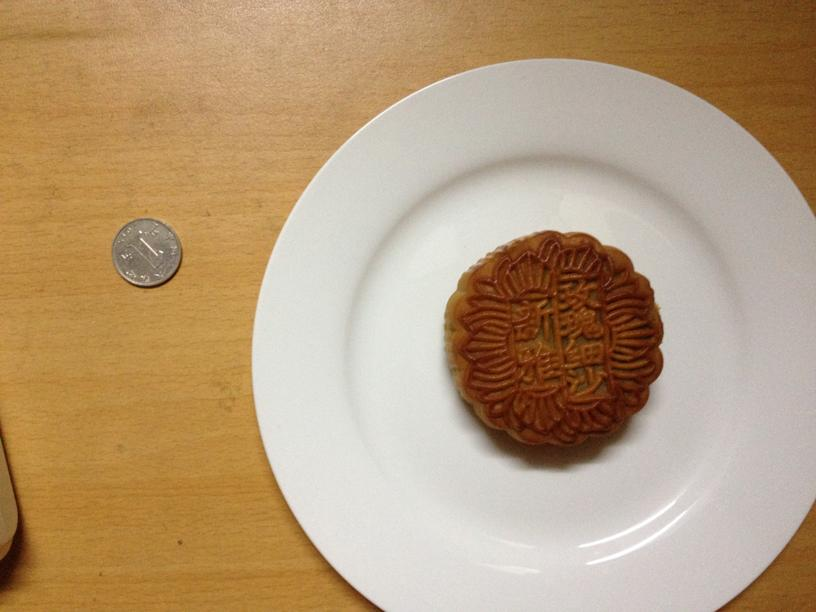coin: (108, 217, 183, 288)
mooncake: (443, 230, 664, 447)
